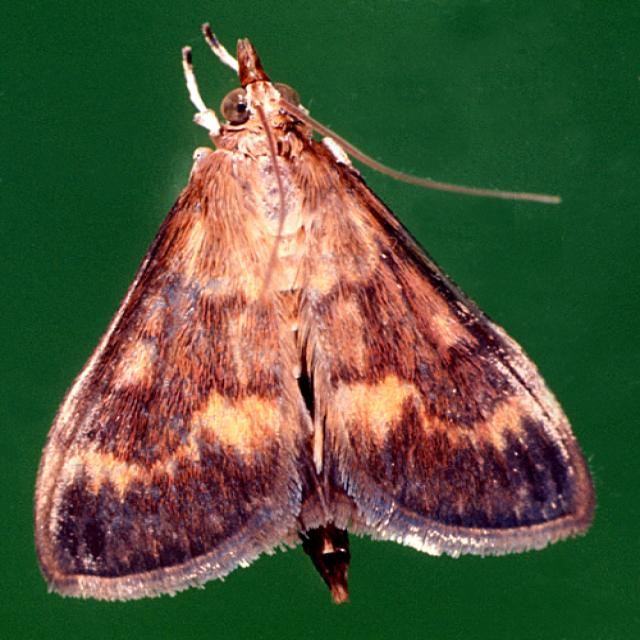cornborer-Adult-: (36, 18, 608, 606)
